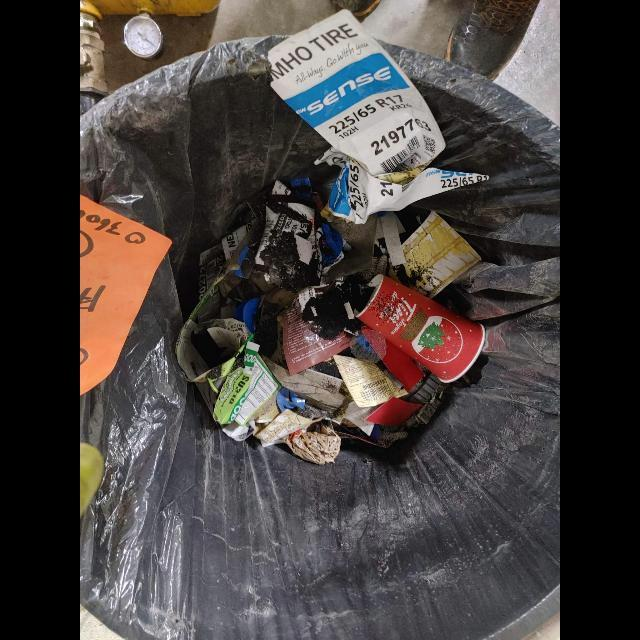cardboard: (175, 276, 323, 448), (356, 276, 486, 384)
paper: (268, 9, 491, 225), (80, 195, 172, 397), (333, 354, 409, 409), (282, 420, 341, 465), (364, 397, 423, 426)
